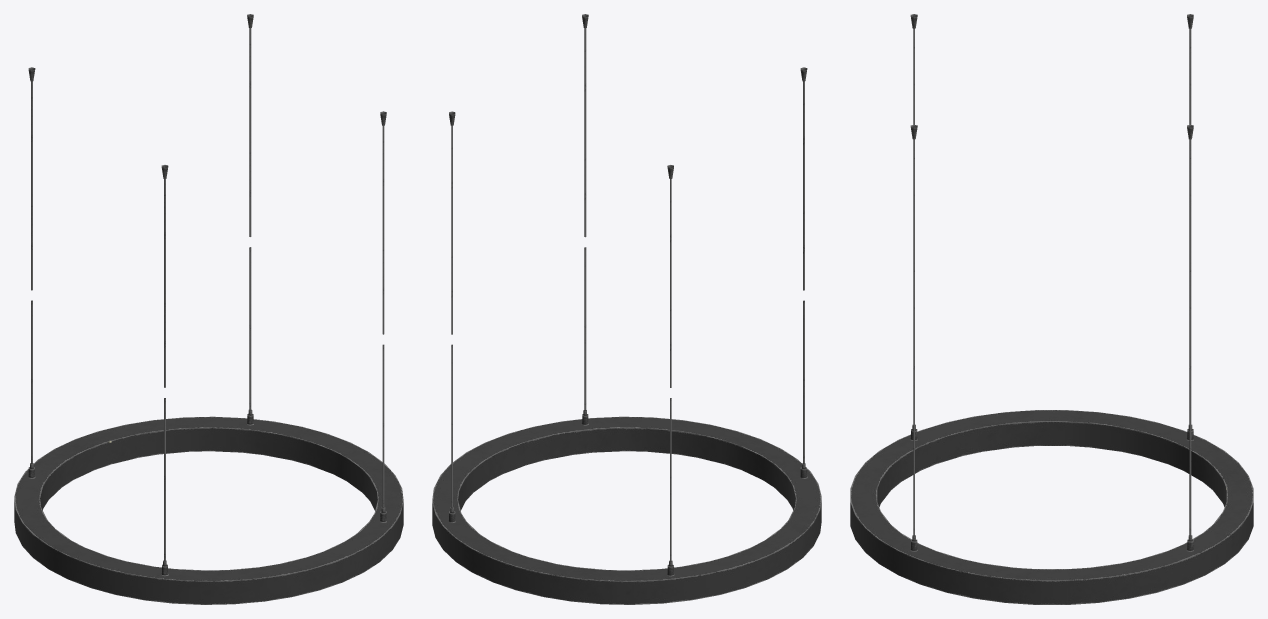
File: lampara_circular.glb
3 renders of one model, left to right at view 1: azimuth 30°, elevation 25°; view 2: azimuth 150°, elevation 25°; view 3: azimuth 270°, elevation 25°, orthographic. The views are drawn at different scales.
Visible parts, largest first — view 1: circlelight; view 2: circlelight; view 3: circlelight.
Part boxes in pixels (bbox=[...]): circlelight: bbox=[14, 14, 403, 604]; circlelight: bbox=[432, 14, 821, 604]; circlelight: bbox=[850, 14, 1253, 604].
Size of the model in its own units: 2 by 2.45 by 2.
Materials: 1 (1 with a texture image).
